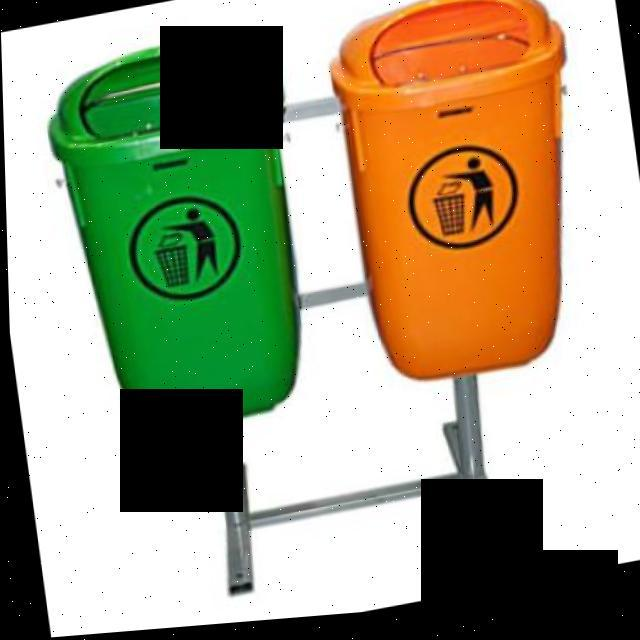bin: (32, 16, 341, 468), (304, 0, 615, 416)
